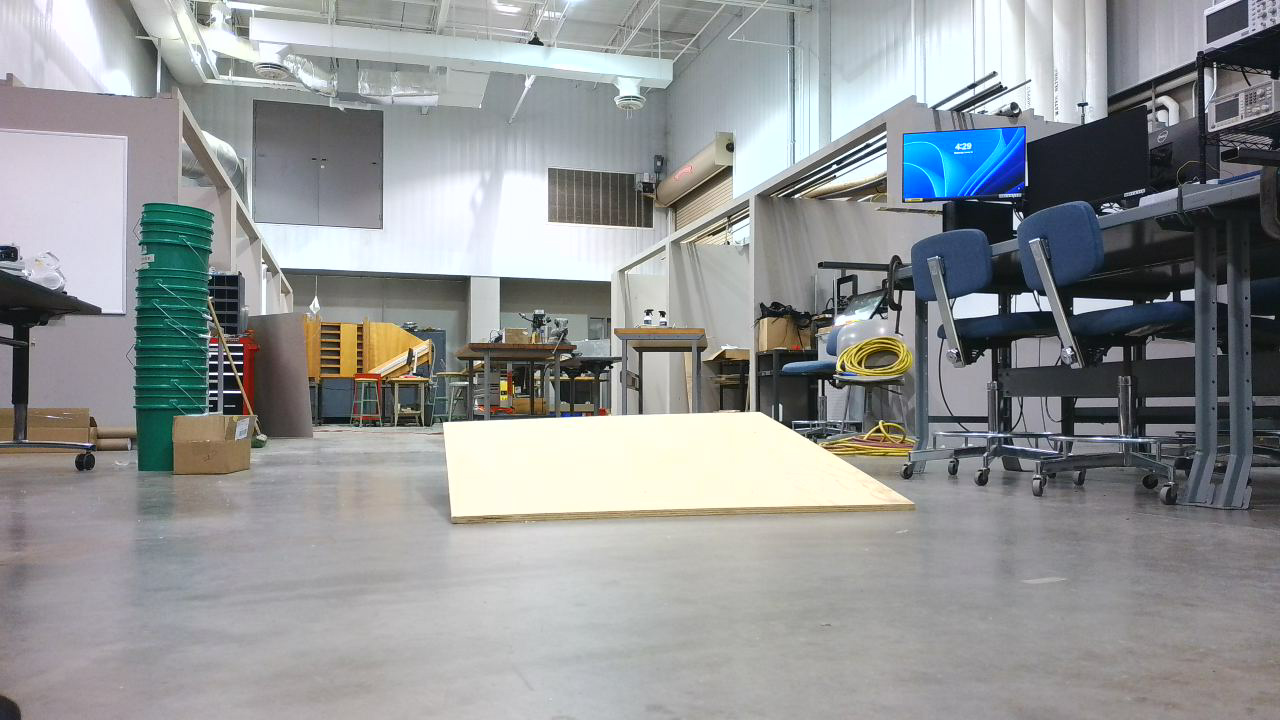ramp: (441, 412, 925, 533)
